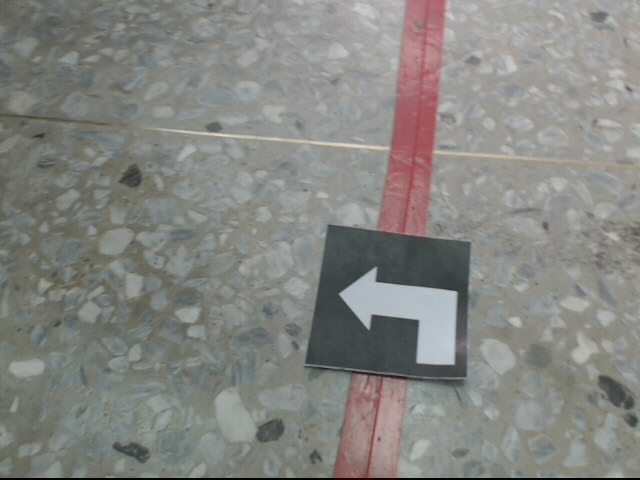left: (303, 224, 472, 382)
